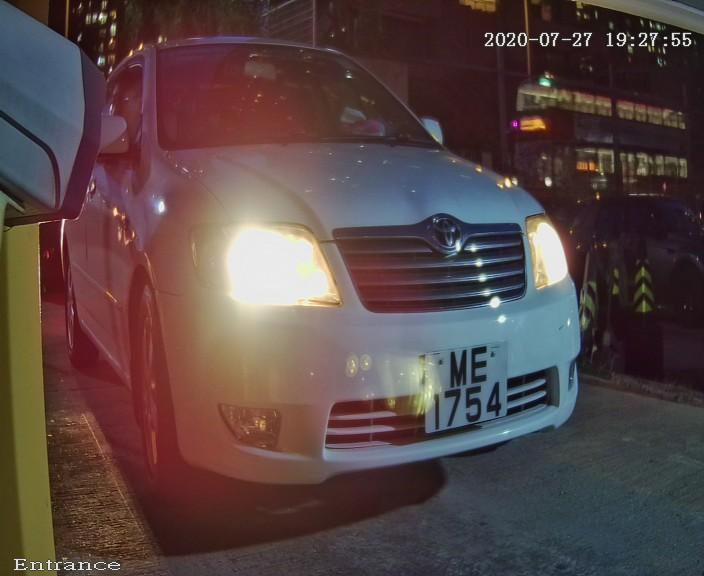privatecar: (79, 8, 595, 541)
